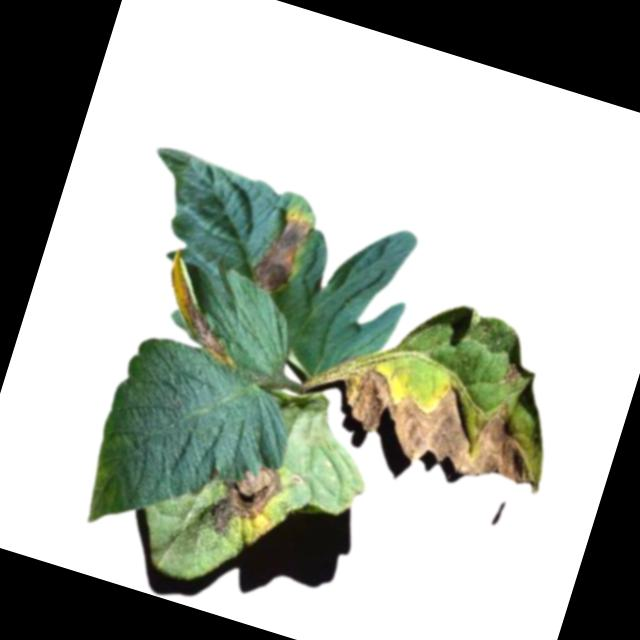Early_blight: (327, 354, 571, 502), (154, 257, 256, 361), (196, 449, 284, 547), (249, 204, 318, 297), (498, 360, 526, 388)
